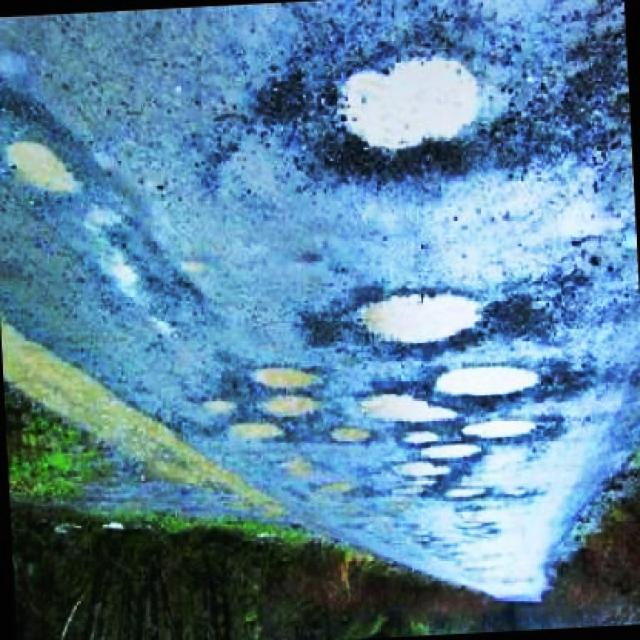pothole: (328, 45, 500, 189), (350, 280, 492, 357), (241, 360, 334, 432), (395, 425, 480, 503), (432, 360, 563, 402), (352, 380, 457, 429), (193, 392, 284, 448), (3, 132, 83, 195), (274, 454, 363, 504), (460, 414, 549, 443), (326, 423, 380, 449)
